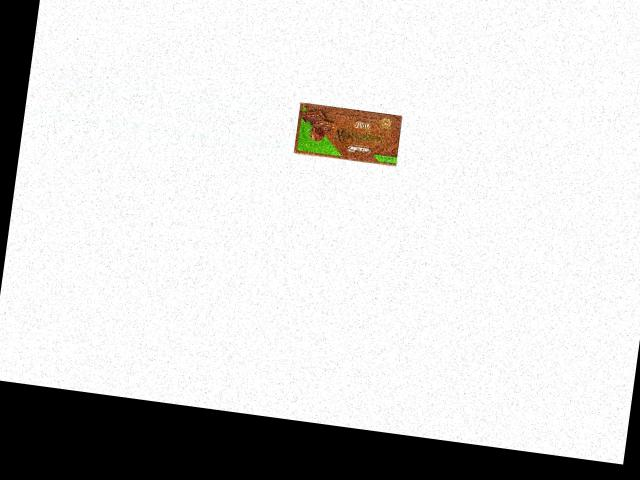chocolate: (292, 99, 406, 171)
